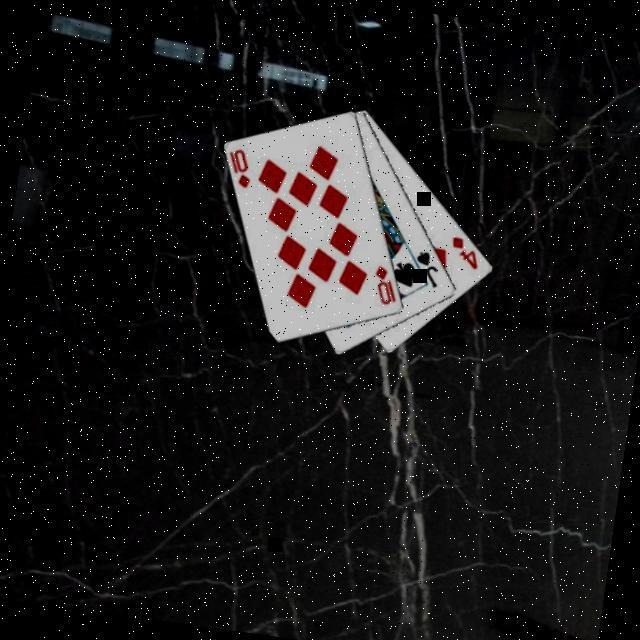10D: (220, 142, 256, 190), (367, 260, 403, 307)
4D: (444, 231, 483, 271)
JS: (408, 245, 443, 289)
